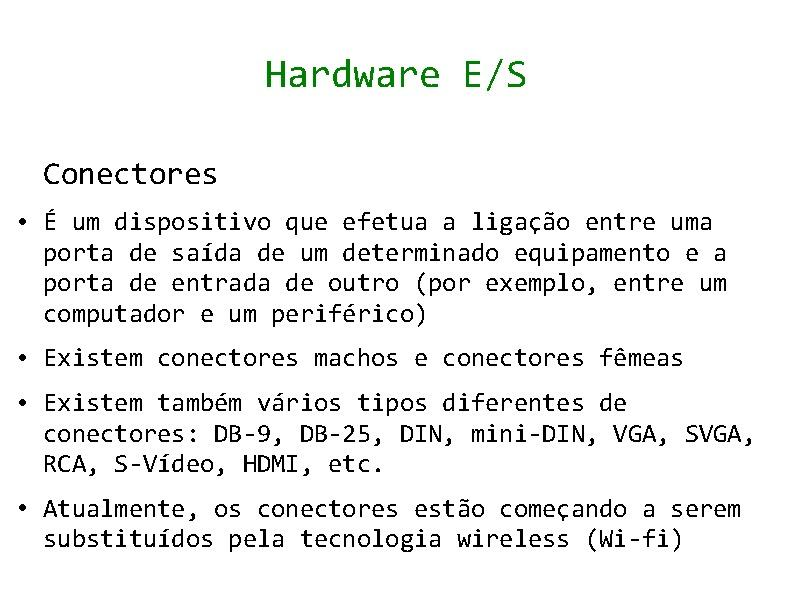paragraph: (5, 200, 773, 570), (30, 146, 228, 198)
title: (256, 30, 535, 104)
